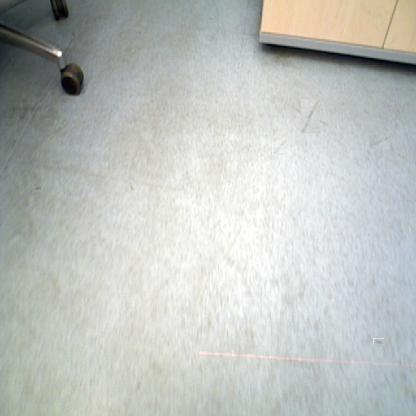mark: (296, 102, 324, 130), (370, 135, 390, 149), (272, 140, 288, 155), (374, 337, 383, 346), (33, 185, 41, 193), (128, 181, 134, 191)
